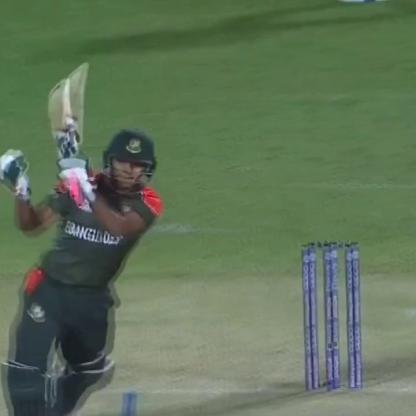bat: (32, 67, 96, 200)
